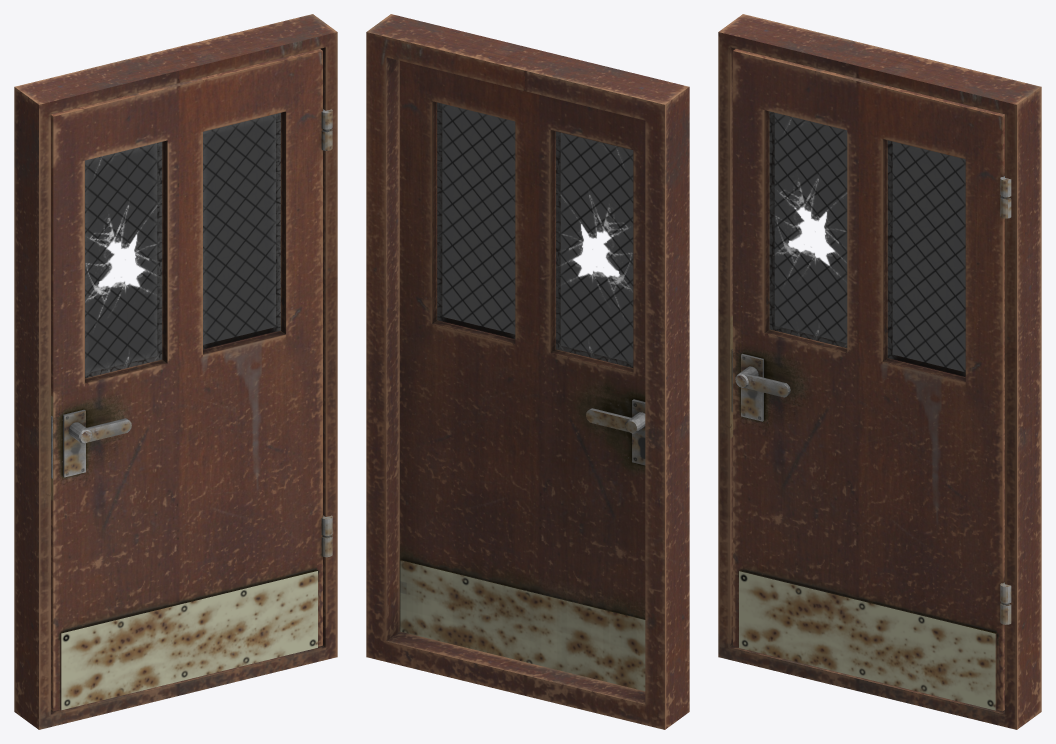
The model's file is door.glb.
The picture shows the model from 3 angles, left to right: view 1: azimuth 30°, elevation 25°; view 2: azimuth 150°, elevation 25°; view 3: azimuth 330°, elevation 25°; orthographic projection.
Parts seen in each view (by area): view 1: Cube.002_Cube.000, Cube.002_Cube.001; view 2: Cube.002_Cube.000, Cube.002_Cube.001; view 3: Cube.002_Cube.000, Cube.002_Cube.001.
Boxes of the visible parts, x1,y1,x2,y2 form: Cube.002_Cube.000: [51, 49, 332, 711]; Cube.002_Cube.001: [14, 14, 337, 729]; Cube.002_Cube.000: [399, 61, 645, 691]; Cube.002_Cube.001: [366, 14, 689, 729]; Cube.002_Cube.000: [732, 49, 1011, 711]; Cube.002_Cube.001: [718, 14, 1041, 729].
Bounding box in the file's own units: 396 × 793 × 84.75.
Materials: 1 (1 with a texture image).
